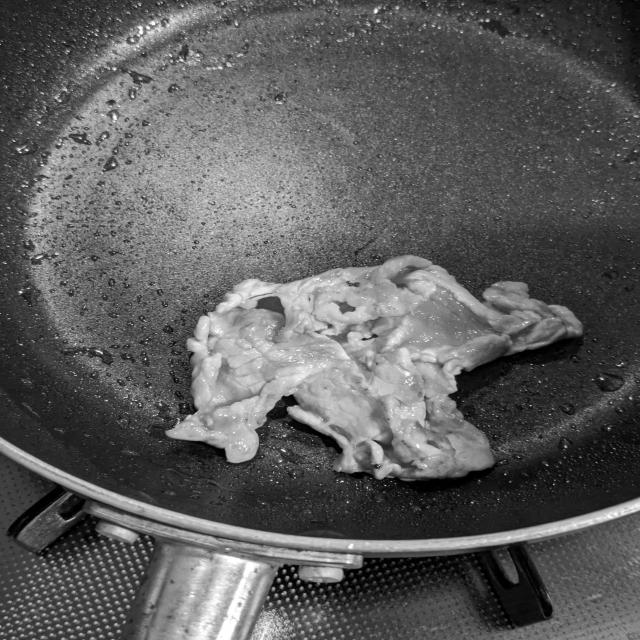NG undercooked pork,: (163, 244, 595, 487)
